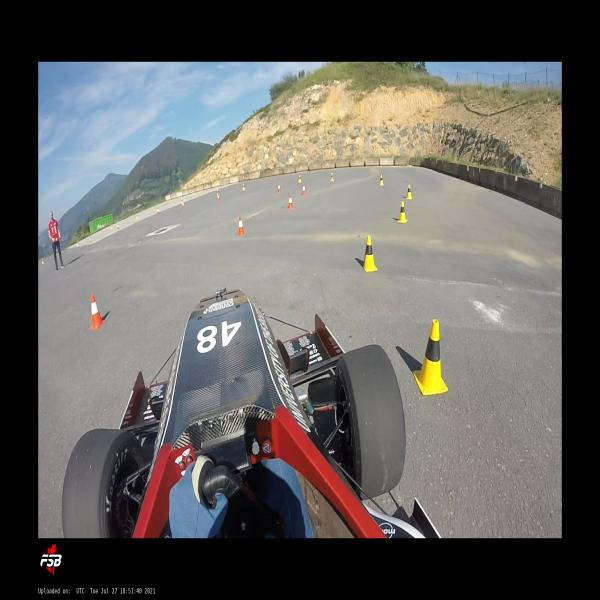orange_cone: (90, 295, 106, 330), (238, 217, 245, 236), (287, 194, 294, 209), (301, 185, 306, 195), (277, 184, 281, 193), (217, 194, 220, 202), (118, 225, 120, 230), (157, 208, 158, 214), (183, 202, 184, 208), (90, 239, 91, 243)
yellow_cone: (413, 320, 448, 396), (363, 235, 377, 272), (397, 201, 408, 223), (406, 184, 412, 200), (379, 174, 384, 186), (331, 172, 334, 182), (298, 175, 301, 182), (242, 183, 245, 190), (76, 241, 78, 247), (216, 190, 218, 195), (42, 259, 43, 265), (137, 213, 138, 219), (158, 206, 159, 212), (111, 224, 112, 229), (181, 200, 182, 204)
